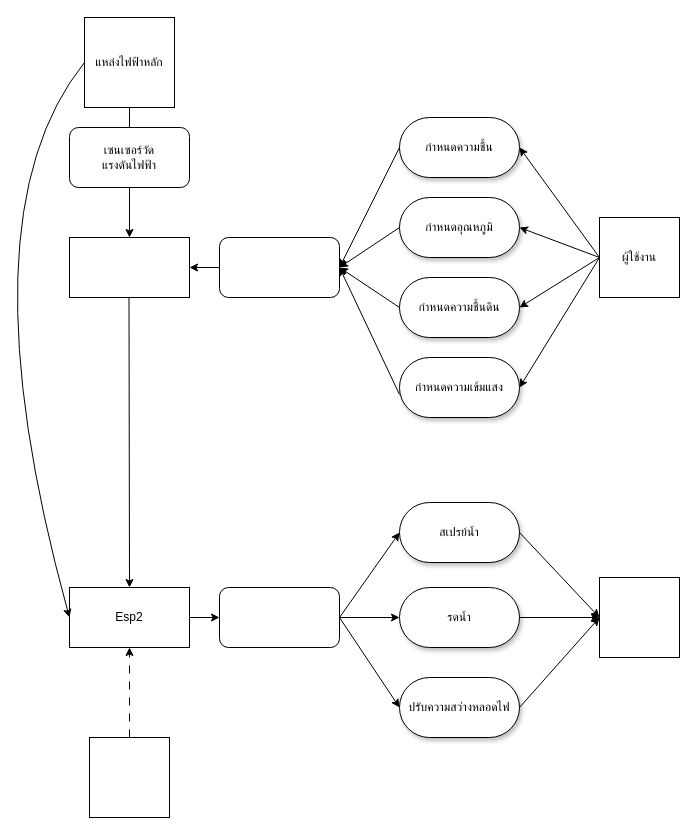
The diagram is 697 pixels wide and 835 high, and some of its shapes have lost their labels. Each missing label, with the centre of its shape:
"Dashboard" goes at point (279, 267).
"Esp1" goes at point (129, 267).
"ความคุมสภาพแวดล้อม" goes at point (279, 617).
"ตู้เพาะเลี้ยง" goes at point (639, 617).
"แหล่งไฟสำรอง" goes at point (129, 777).
